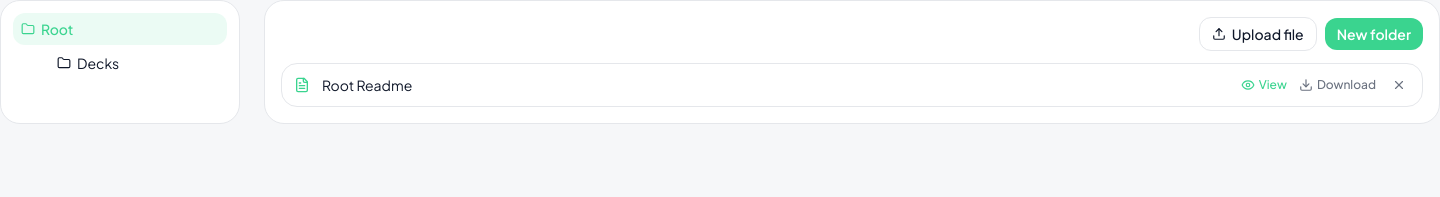
HubFilesTab (manage) › deletes an item and removes it from the list
This screenshot has width=1440, height=197.
What coordinates should you click on to do the following:
click the button named "delete root readme"
I would click on:
 (1399, 85)
Its box is 1388,74 -> 1410,96.
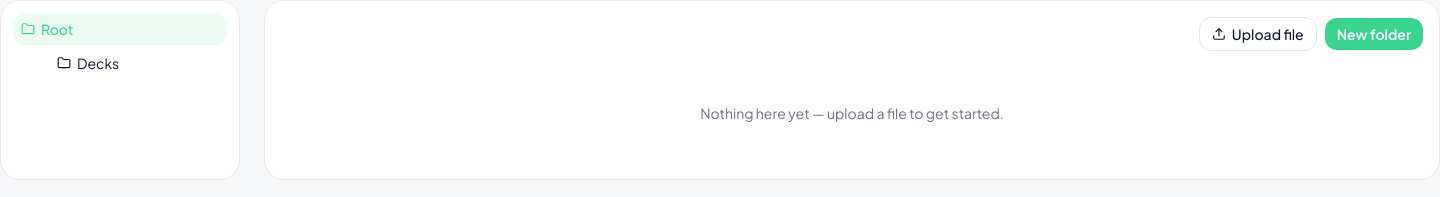
Check: the text "Root Readme" is gone
